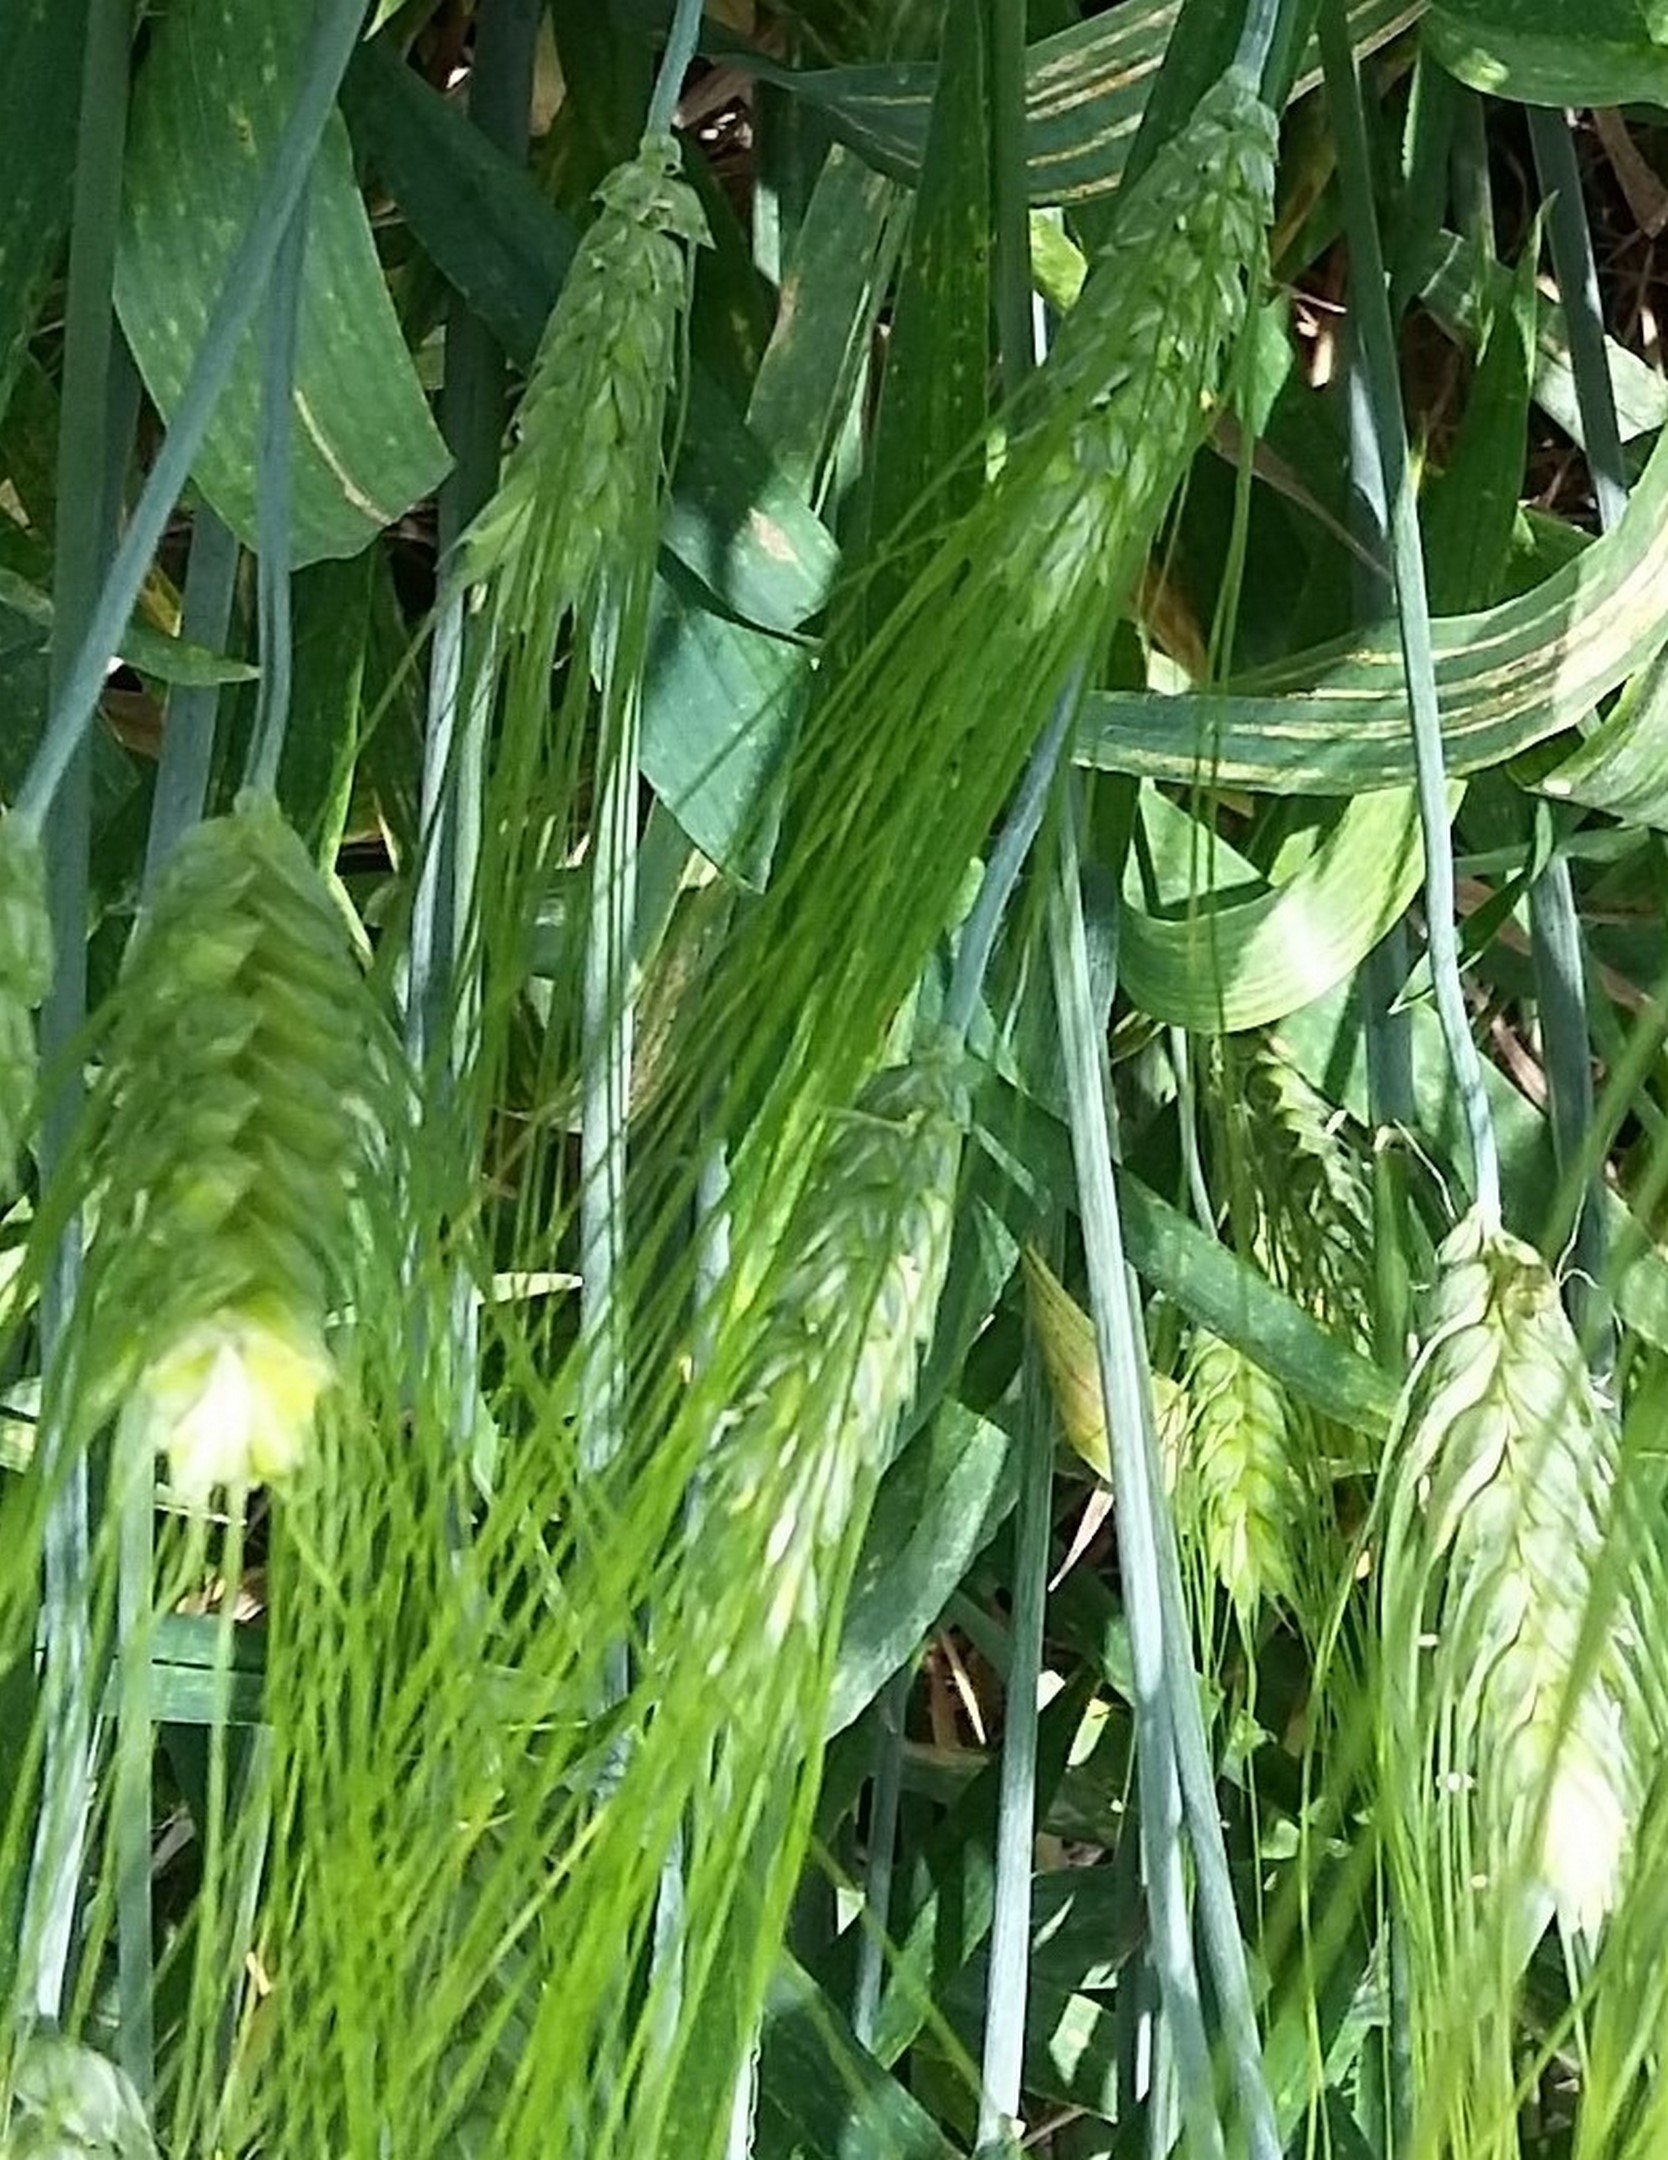Healthy Wheat: (965, 70, 1340, 639), (1396, 1181, 1668, 1932)
